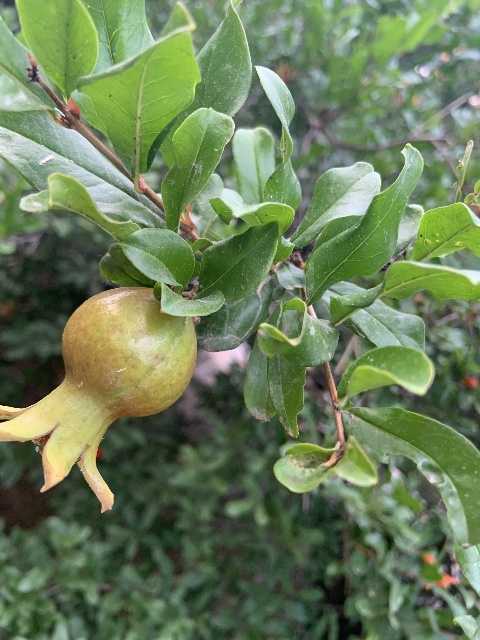mid-growth: (0, 284, 197, 514)
